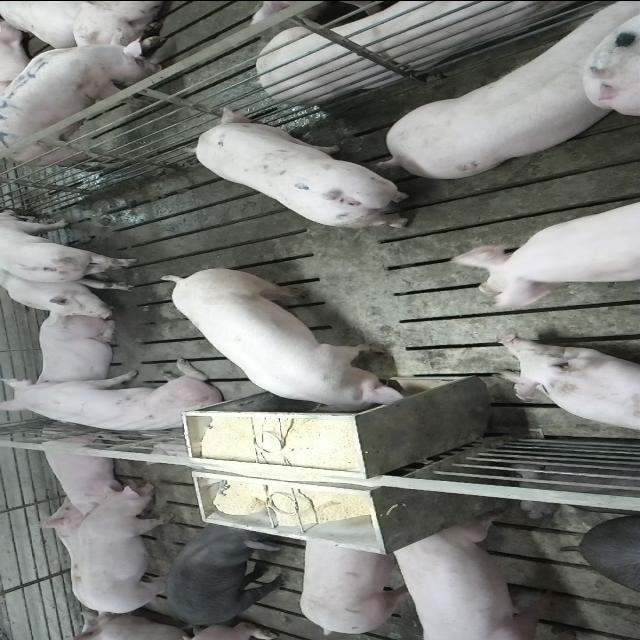Feeding: (162, 271, 411, 421)
Sitting: (4, 363, 231, 437), (2, 209, 142, 319), (2, 266, 143, 318)
Standing: (374, 6, 634, 183), (192, 105, 420, 226), (450, 190, 640, 317), (384, 518, 572, 638), (0, 27, 158, 165), (79, 482, 181, 618), (162, 515, 284, 626), (299, 530, 416, 634)
Sternal_lying: (252, 0, 588, 100), (498, 336, 640, 434), (36, 428, 132, 511), (35, 312, 121, 391)
